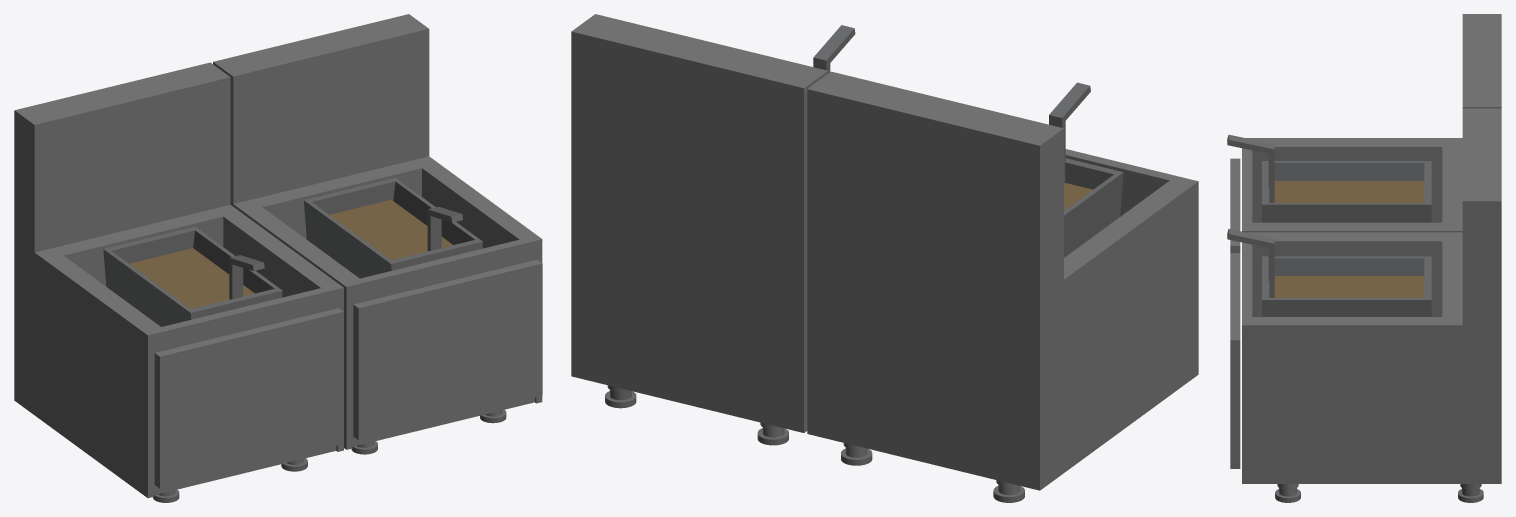
Rendered from Fryer.fbx.
The picture shows the model from 3 angles, left to right: view 1: azimuth 30°, elevation 25°; view 2: azimuth 150°, elevation 25°; view 3: azimuth 270°, elevation 25°; orthographic projection. The views are drawn at different scales.
Visible parts, largest first — view 1: Cube.039, Cube.043, Cube.047, Cube.038, FryBasket, Cube.048, Cube.148, Cube.045; view 2: Cube.039, Cube.043, Cube.048, Cube.057, Cube.056; view 3: Cube.043, Cube.039, Cube.048, FryBasket, Cube.045, Cube.148, Cube.038, Cube.047, Cube.057, Cube.056, Cube.049, Cube.058.
Part boxes in pixels (box(x1,y1,x2,y2)): Cube.039: box(14, 62, 343, 498); Cube.043: box(213, 14, 542, 449); Cube.047: box(154, 308, 343, 488); Cube.038: box(353, 259, 542, 440); FryBasket: box(303, 177, 482, 278); Cube.048: box(103, 226, 282, 326); Cube.148: box(129, 248, 254, 308); Cube.045: box(329, 199, 452, 260); Cube.039: box(807, 71, 1198, 490); Cube.043: box(571, 14, 827, 432); Cube.048: box(1064, 158, 1123, 257); Cube.057: box(1049, 82, 1090, 123); Cube.056: box(813, 25, 855, 63); Cube.043: box(1242, 108, 1501, 483); Cube.039: box(1242, 14, 1501, 232); Cube.048: box(1262, 161, 1431, 222); FryBasket: box(1262, 256, 1431, 316); Cube.045: box(1274, 276, 1424, 297); Cube.148: box(1274, 181, 1424, 202); Cube.038: box(1230, 253, 1240, 468); Cube.047: box(1230, 158, 1240, 252); Cube.057: box(1227, 134, 1274, 154); Cube.056: box(1227, 229, 1274, 248); Cube.049: box(1268, 244, 1274, 297); Cube.058: box(1268, 151, 1274, 202).
Bounding box in the file's own units: 858 × 658 × 531.
